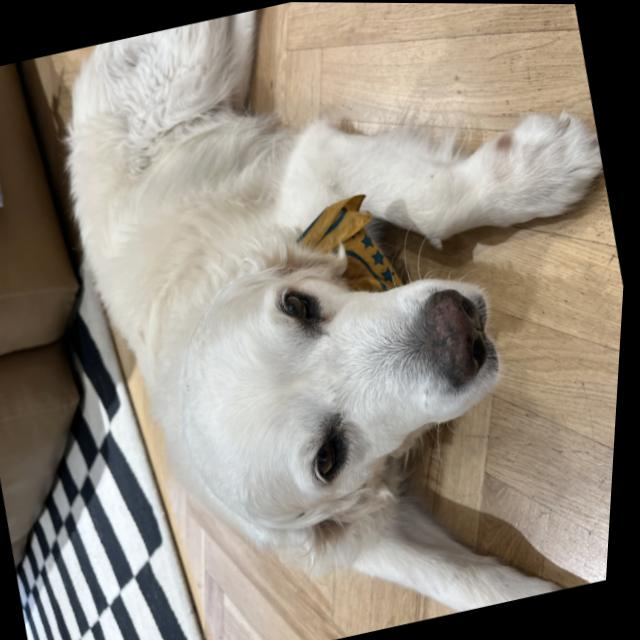dog-retriever: (135, 186, 545, 592)
